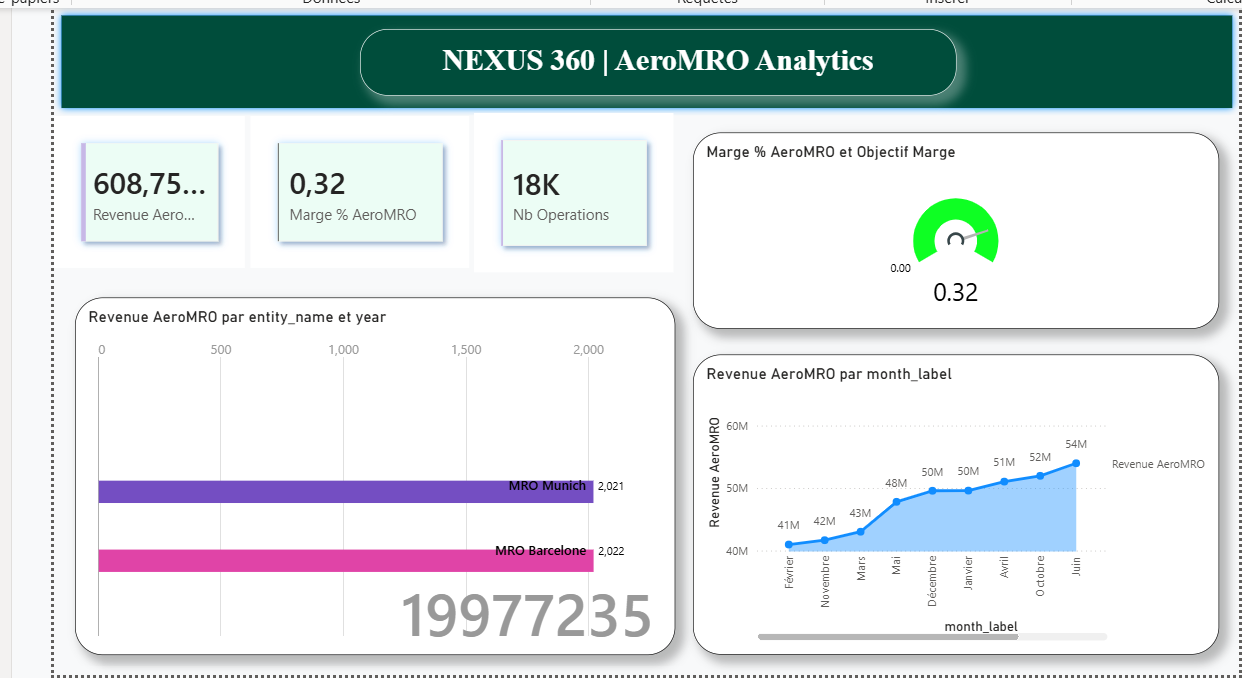

The dashboard page shown, as its layout file describes it:
{"tool":"powerbi","page":{"name":"AeroMRO","canvas":[1280,720],"ordinal":1},"visuals":[{"type":"shape","box":[0,0,1280,116],"z":0},{"type":"textbox","box":[330,22,644,72],"z":1000},{"type":"cardVisual","fields":{"Data":["_Mesures.Revenue AeroMRO"]},"box":[0,116,206,164],"z":2000},{"type":"cardVisual","fields":{"Data":["_Mesures.Marge % AeroMRO"]},"box":[212,116,236,164],"z":3000},{"type":"cardVisual","fields":{"Data":["_Mesures.Nb Operations"]},"box":[453.9,112.6,215.3,172.3],"z":4000},{"type":"wishyoulizationbarchartrace","fields":{"name":["Dim_Entity.entity_name"],"value":["Dim_Date.year"],"year":["_Mesures.Revenue AeroMRO"]},"box":[22,312,648,386],"z":5000},{"type":"areaChart","fields":{"Category":["Dim_Date.month_label"],"Y":["_Mesures.Revenue AeroMRO"]},"box":[690,374,568,324],"z":6000},{"type":"Tachometer1474636471549","fields":{"Y":["_Mesures.Marge % AeroMRO"],"EndValue":["_Mesures.Objectif Marge"]},"box":[690,134,568,212],"z":7000}]}

Visuals, with their boxes on the page's 1280x720 design canvas (x1, y1, x2, y2). These are canvas units, not pixel positions in the 1242x678 screenshot, which may show the page scaled, cropped or inside an application window:
shape: region(0, 0, 1280, 116)
textbox: region(330, 22, 974, 94)
cardVisual - _Mesures.Revenue AeroMRO: region(0, 116, 206, 280)
cardVisual - _Mesures.Marge % AeroMRO: region(212, 116, 448, 280)
cardVisual - _Mesures.Nb Operations: region(454, 113, 669, 285)
wishyoulizationbarchartrace - Dim_Entity.entity_name x Dim_Date.year: region(22, 312, 670, 698)
areaChart - Dim_Date.month_label x _Mesures.Revenue AeroMRO: region(690, 374, 1258, 698)
Tachometer1474636471549 - _Mesures.Marge % AeroMRO x _Mesures.Objectif Marge: region(690, 134, 1258, 346)
